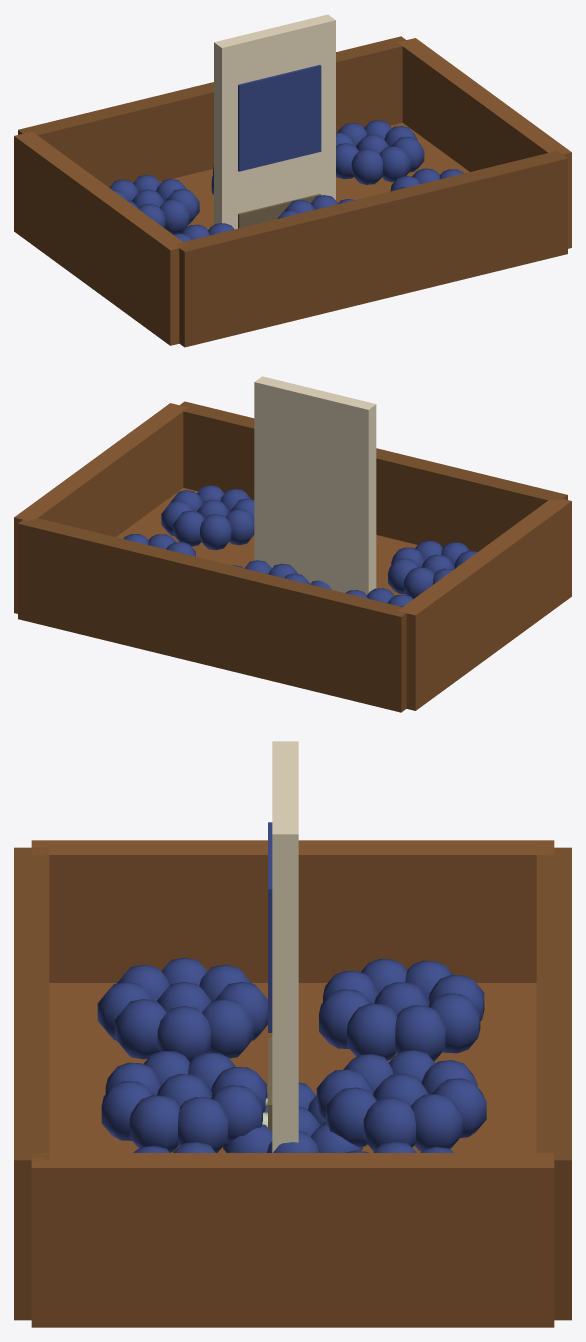
Rendered from Fruit_Blueberry.fbx.
The picture shows the model from 3 angles, top to bottom: view 1: azimuth 30°, elevation 25°; view 2: azimuth 150°, elevation 25°; view 3: azimuth 270°, elevation 25°; orthographic projection. The views are drawn at different scales.
Parts seen in each view (by area): view 1: Fruit_Blueberry__Stack, Fruit_Blueberry__Seed; view 2: Fruit_Blueberry__Stack, Fruit_Blueberry__Seed; view 3: Fruit_Blueberry__Stack, Fruit_Blueberry__Seed, Fruit_Blueberry.
Part boxes in pixels (left/top/right/bottom): Fruit_Blueberry__Stack: left=14, top=36, right=571, bottom=347; Fruit_Blueberry__Seed: left=214, top=14, right=335, bottom=229; Fruit_Blueberry__Stack: left=14, top=401, right=571, bottom=712; Fruit_Blueberry__Seed: left=254, top=376, right=376, bottom=594; Fruit_Blueberry__Stack: left=14, top=840, right=571, bottom=1327; Fruit_Blueberry__Seed: left=268, top=741, right=298, bottom=1152; Fruit_Blueberry: left=223, top=1082, right=362, bottom=1152.
Size of the model in its own units: 0.1759 by 0.09 by 0.1266.
